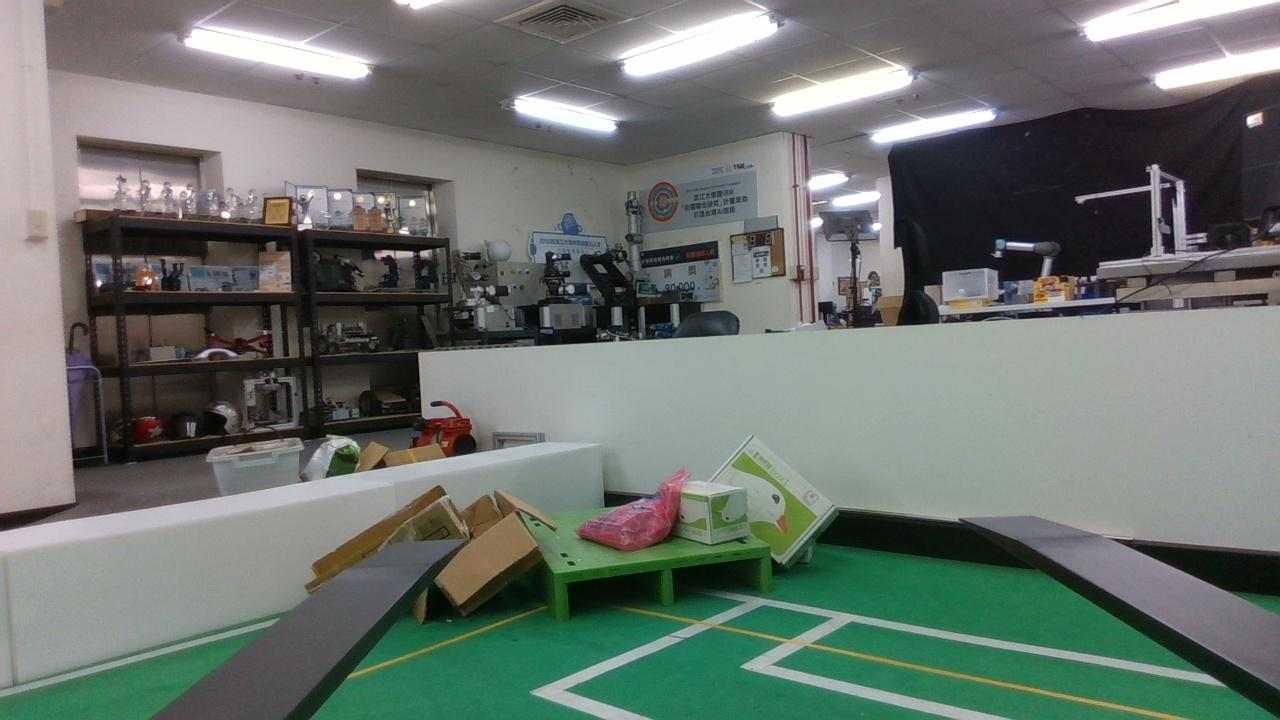Pallet: (555, 545, 774, 618)
